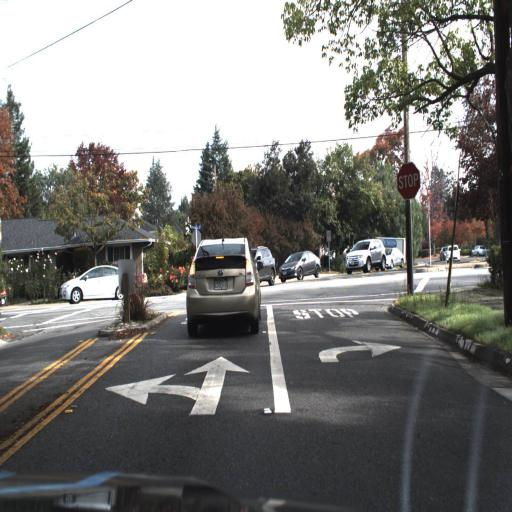car: (184, 230, 262, 334), (62, 261, 126, 301), (345, 236, 385, 278), (278, 248, 322, 282), (446, 244, 461, 262)
